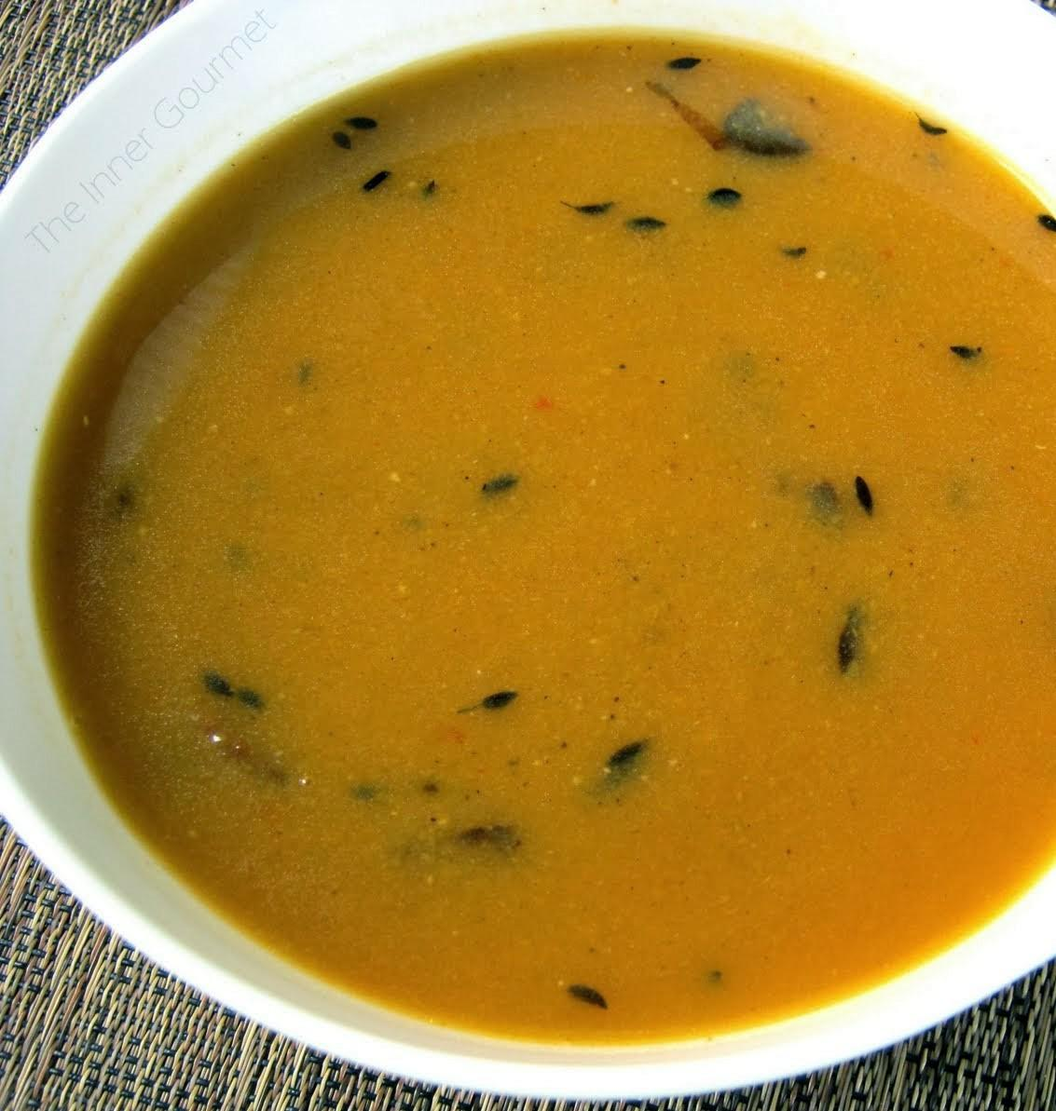Dal: (33, 35, 1056, 1038)
